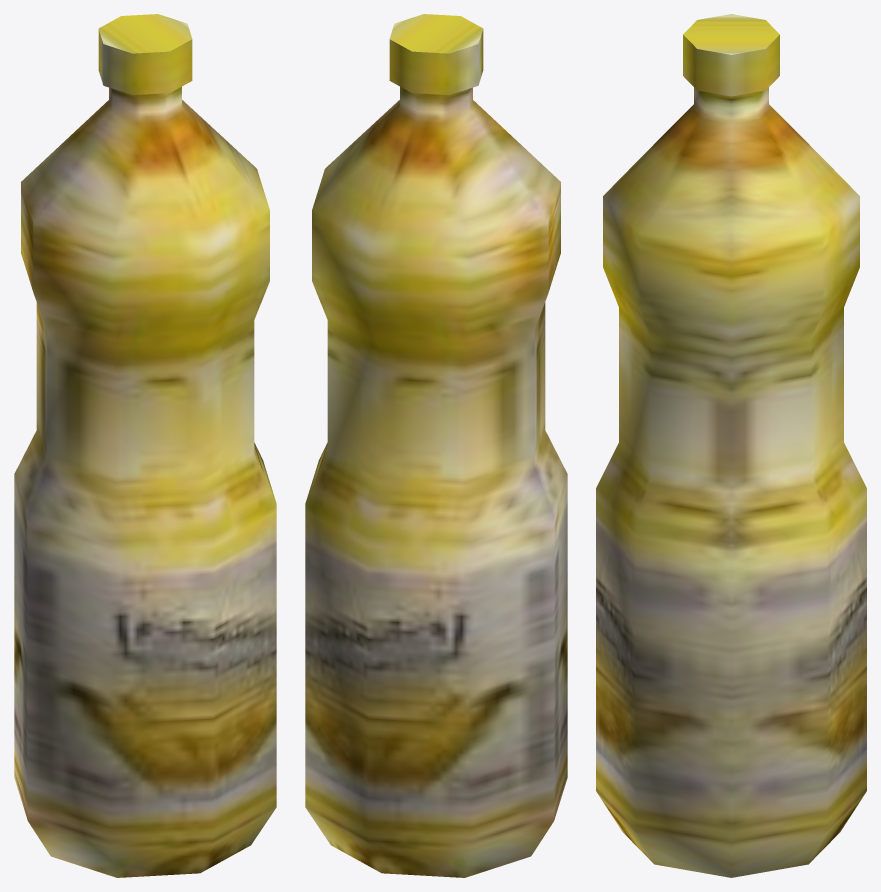
Rendered from Cooking_oil.glb.
The picture shows the model from 3 angles, left to right: view 1: azimuth 30°, elevation 25°; view 2: azimuth 150°, elevation 25°; view 3: azimuth 270°, elevation 25°; orthographic projection.
Visible parts, largest first — view 1: Cooking_oil; view 2: Cooking_oil; view 3: Cooking_oil.
Boxes of the visible parts, x1,y1,x2,y2 form: Cooking_oil: (14,14,276,877); Cooking_oil: (305,14,567,877); Cooking_oil: (596,14,866,877).
Size of the model in its own units: 0.1138 by 0.3697 by 0.1138.
Materials: 1 (1 with a texture image).
